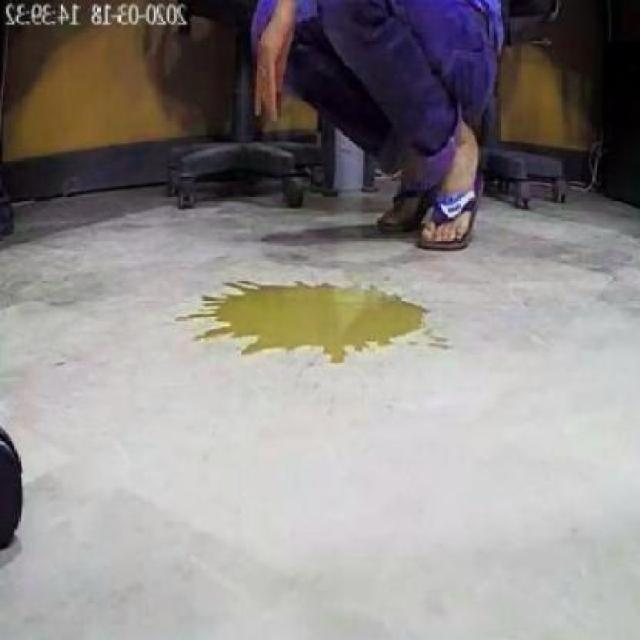spillage: (202, 286, 423, 365)
